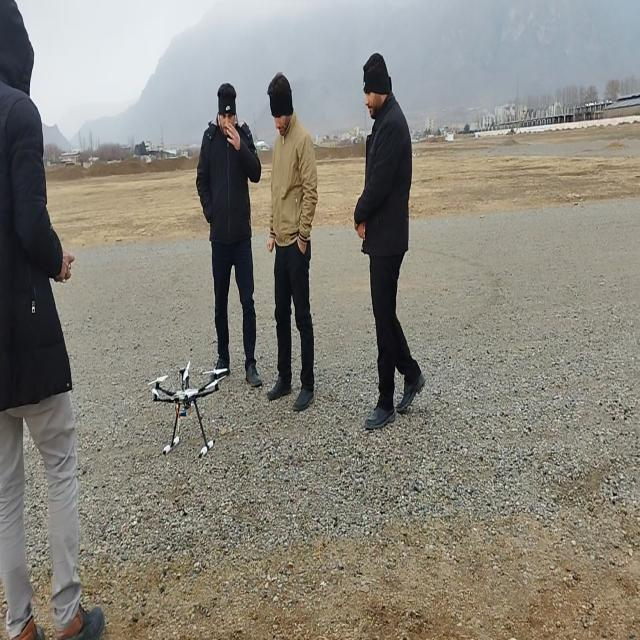drone: (148, 361, 229, 456)
